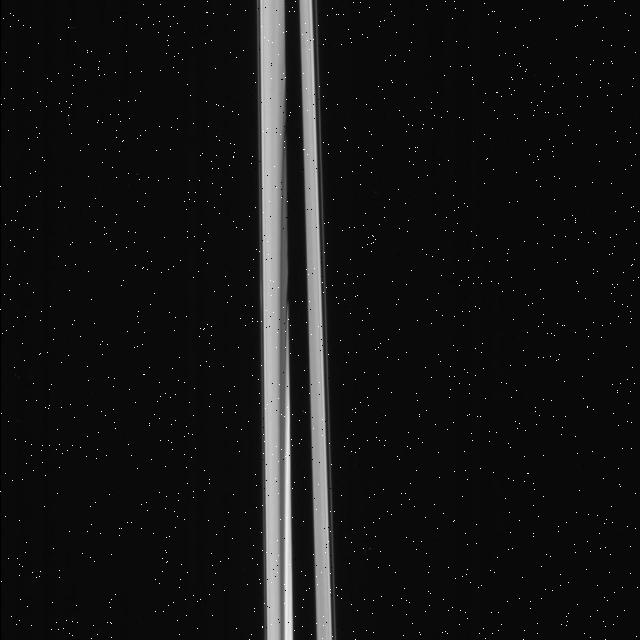Saturn: (252, 0, 340, 640)
